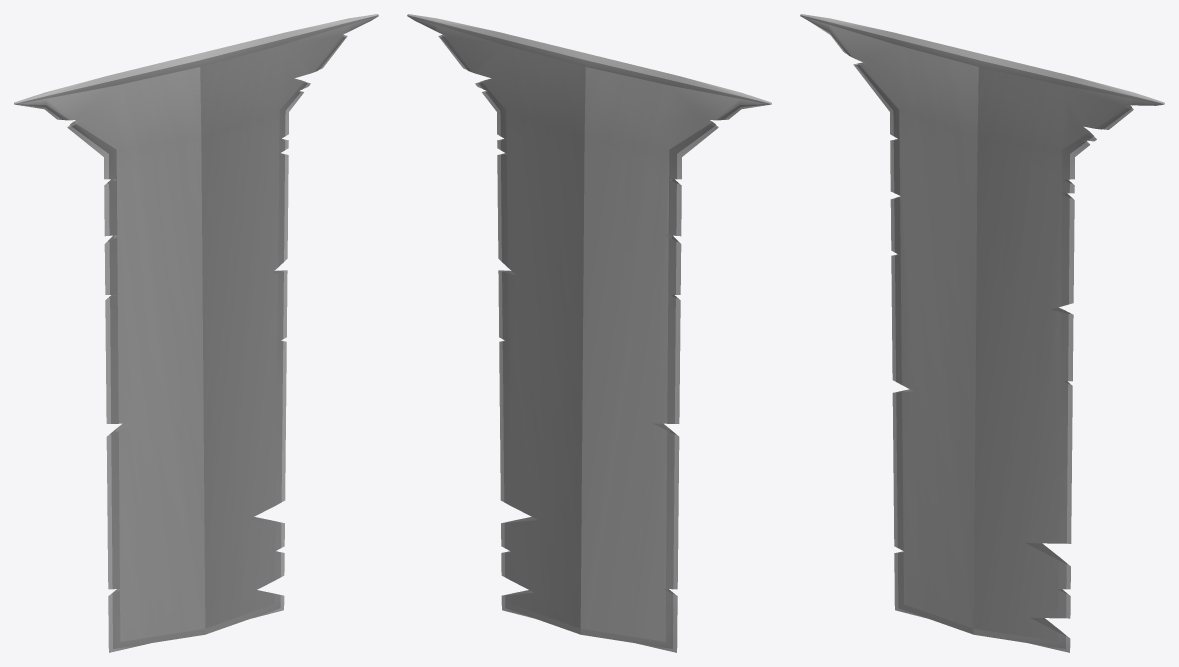
File: stone_blade_scratched_051.glb
3 views of the same model, side by side, from view 1: azimuth 30°, elevation 25°; view 2: azimuth 150°, elevation 25°; view 3: azimuth 330°, elevation 25° (orthographic).
Visible parts, largest first — view 1: stone_blade_scratched.051; view 2: stone_blade_scratched.051; view 3: stone_blade_scratched.051.
Part boxes in pixels (box(x1,y1,x2,y2)): stone_blade_scratched.051: box(14, 14, 378, 652); stone_blade_scratched.051: box(407, 14, 771, 652); stone_blade_scratched.051: box(800, 14, 1164, 652).
Bounding box in the file's own units: 7.54 × 11.44 × 0.6326.
1 material, 1 textured.
